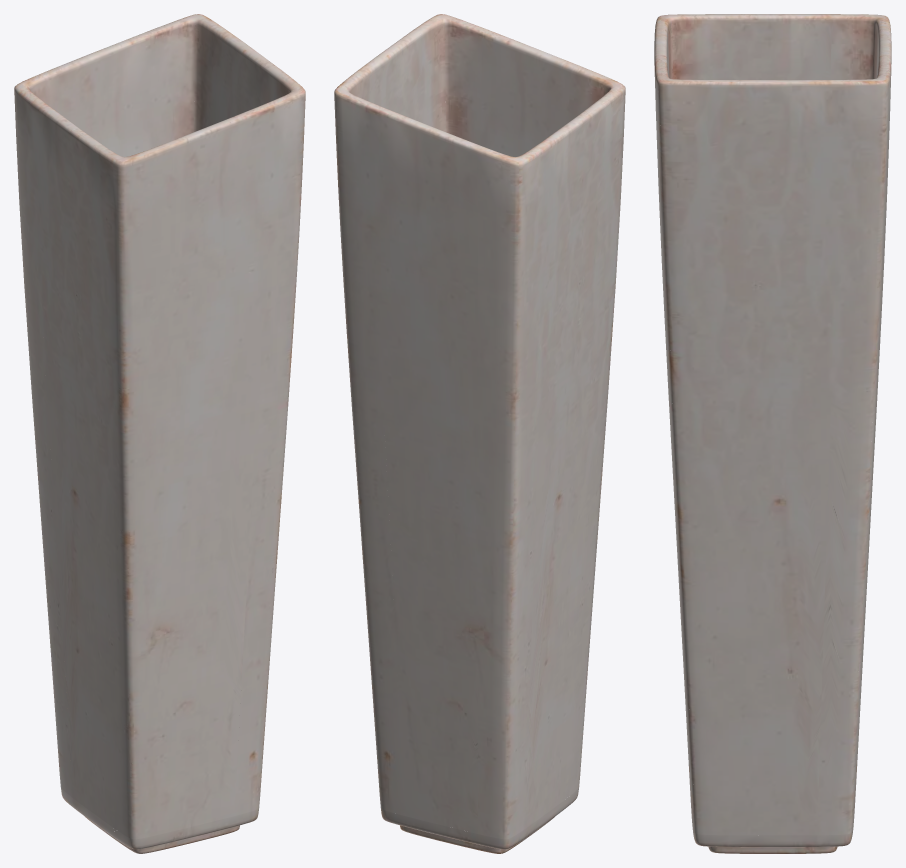
File: ceramic_vase_03.glb
The picture shows the model from 3 angles, left to right: view 1: azimuth 30°, elevation 25°; view 2: azimuth 150°, elevation 25°; view 3: azimuth 270°, elevation 25°; orthographic projection. The views are drawn at different scales.
Parts seen in each view (by area): view 1: ceramic_vase_03; view 2: ceramic_vase_03; view 3: ceramic_vase_03.
Part boxes in pixels (x1,y1,x2,y2): ceramic_vase_03: (14,14,305,853); ceramic_vase_03: (334,14,625,853); ceramic_vase_03: (654,14,891,853).
Bounding box in the file's own units: 0.1123 × 0.4144 × 0.1123.
Materials: 1 (1 with a texture image).
